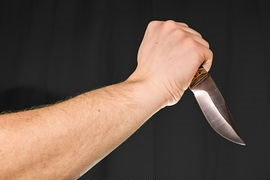knife: (164, 19, 250, 149)
